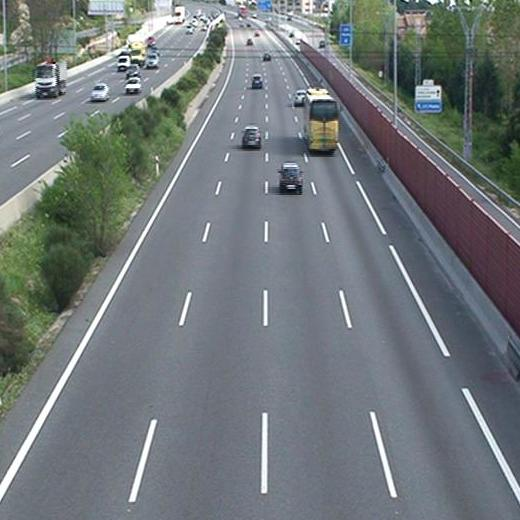bus: (302, 87, 340, 154)
car: (279, 162, 303, 192), (241, 126, 262, 148), (293, 89, 309, 107), (251, 74, 263, 90), (262, 51, 272, 62)
